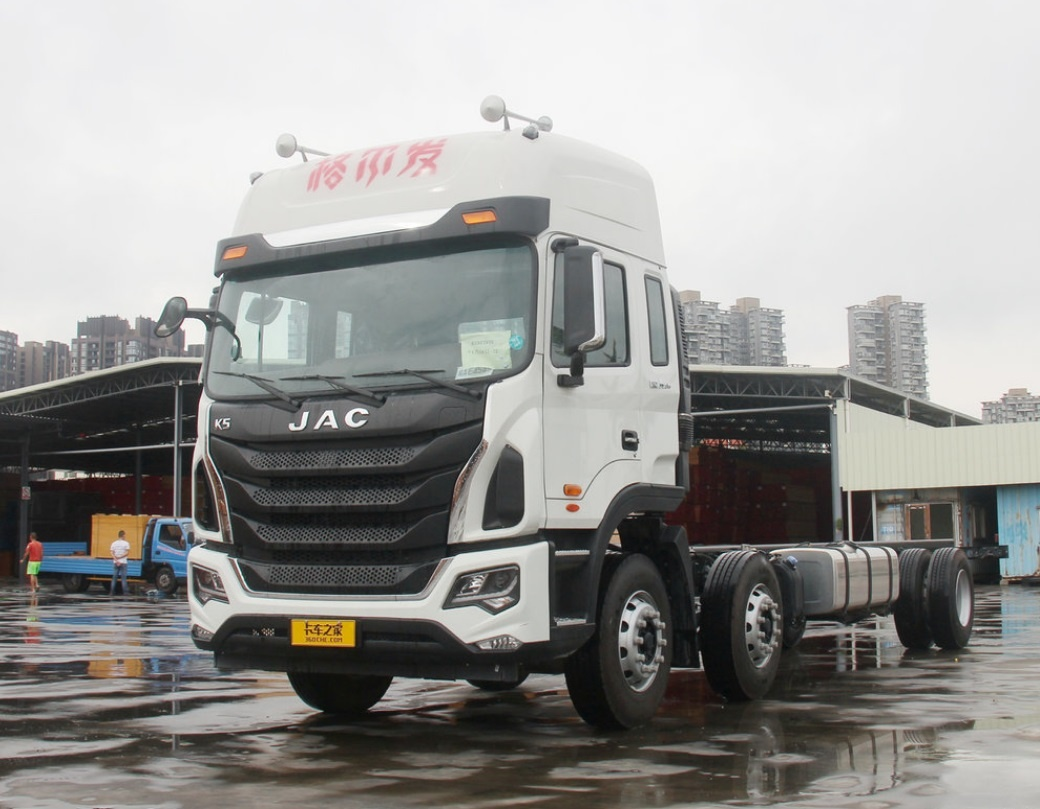heavy truck: (177, 77, 980, 724)
